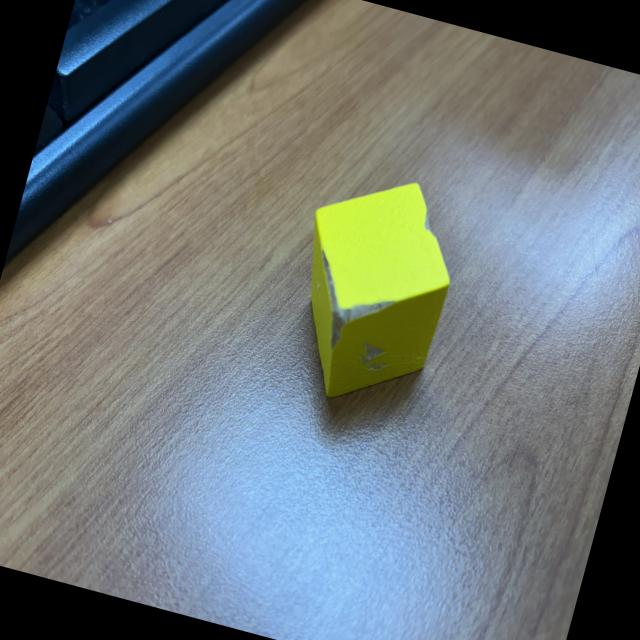broken: (268, 157, 474, 423)
